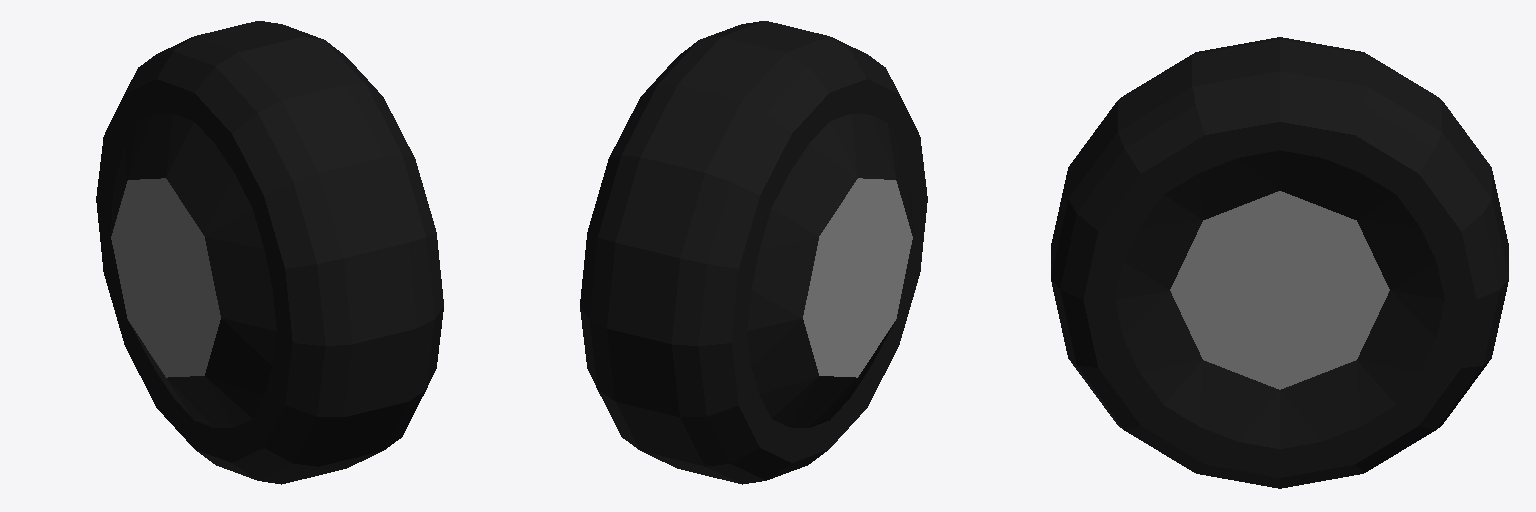
3 renders of one model, left to right at view 1: azimuth 30°, elevation 25°; view 2: azimuth 150°, elevation 25°; view 3: azimuth 270°, elevation 25°, orthographic.
Parts seen in each view (by area): view 1: Tires_Material.002; view 2: Tires_Material.002; view 3: Tires_Material.002.
Boxes of the visible parts, x1,y1,x2,y2 form: Tires_Material.002: [96, 21, 443, 484]; Tires_Material.002: [580, 21, 927, 484]; Tires_Material.002: [1051, 37, 1508, 488].
Size of the model in its own units: 0.4323 by 0.9549 by 0.9549.
1 materials, 1 textured.